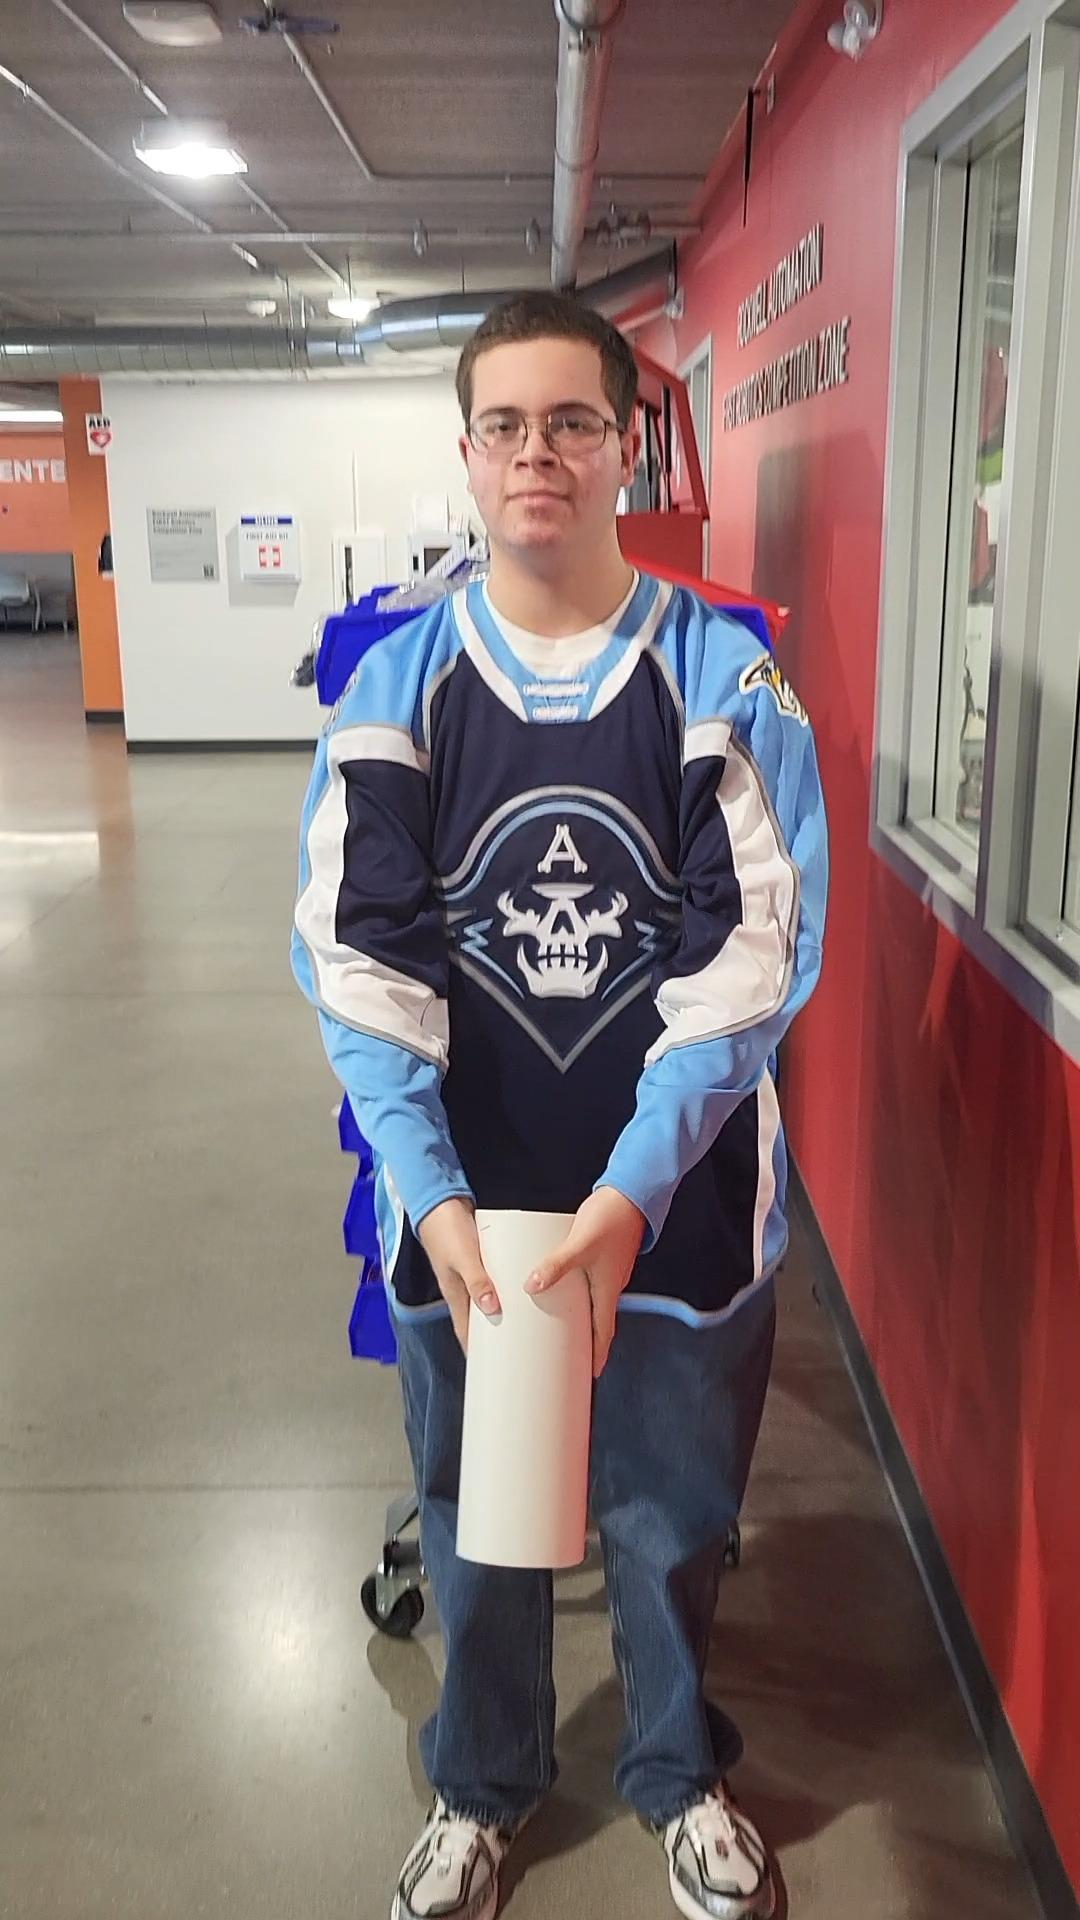coral: (450, 1195, 607, 1584)
